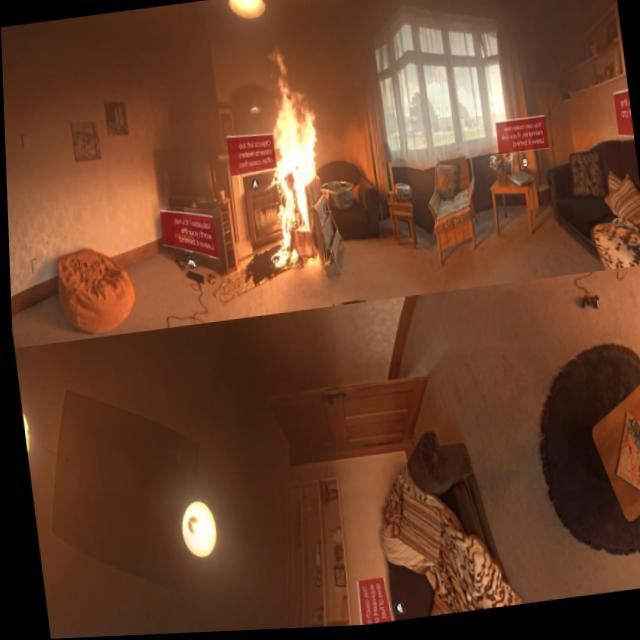fire: (243, 40, 333, 278)
